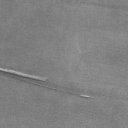finishing roll printing: (0, 66, 92, 98)
